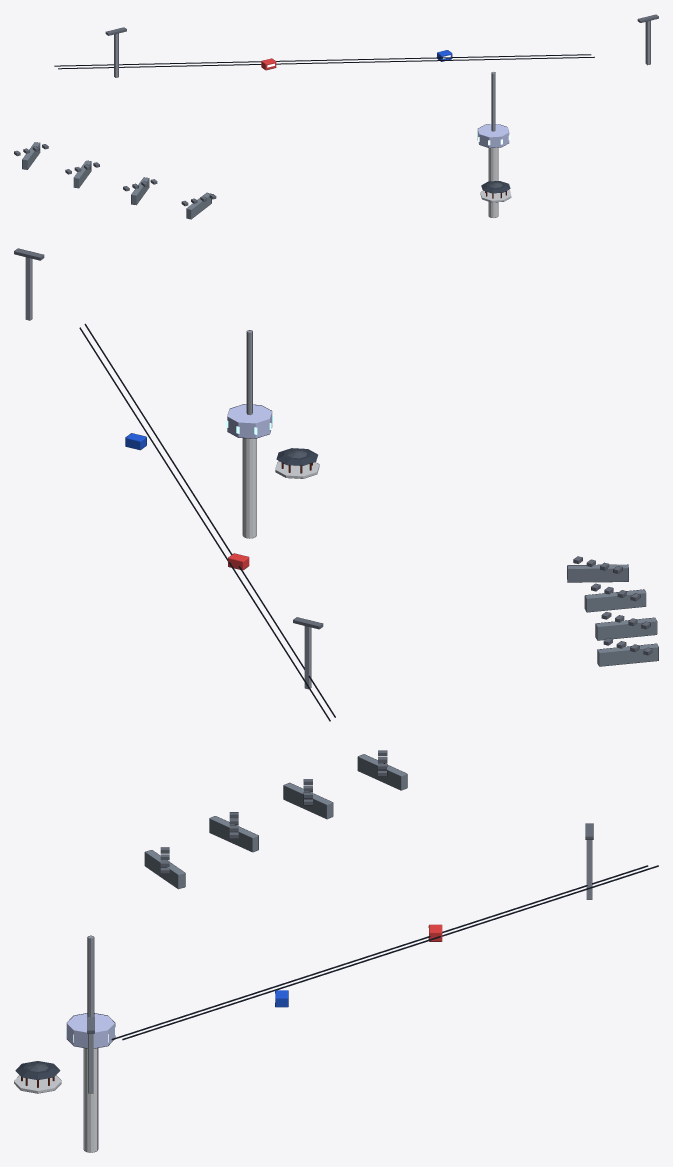
Rendered from namsan.glb.
The picture shows the model from 3 angles, top to bottom: view 1: azimuth 30°, elevation 25°; view 2: azimuth 150°, elevation 25°; view 3: azimuth 270°, elevation 25°; orthographic projection. The views are drawn at different scales.
Parts seen in each view (by area): view 1: cable_car, hanyangdoseong, n_seoul_tower, palgakjeong; view 2: hanyangdoseong, cable_car, n_seoul_tower, palgakjeong; view 3: hanyangdoseong, cable_car, n_seoul_tower, palgakjeong.
Boxes of the visible parts, x1,y1,x2,y2 form: cable_car: (54, 14, 658, 77); hanyangdoseong: (14, 142, 216, 219); n_seoul_tower: (476, 72, 510, 217); palgakjeong: (480, 181, 511, 202); hanyangdoseong: (567, 556, 658, 666); cable_car: (14, 248, 335, 721); n_seoul_tower: (225, 330, 273, 538); palgakjeong: (275, 448, 319, 478); hanyangdoseong: (144, 750, 407, 889); cable_car: (87, 823, 658, 1093); n_seoul_tower: (66, 935, 115, 1152); palgakjeong: (14, 1061, 61, 1093).
Size of the model in its own units: 351 by 99.1 by 243.
